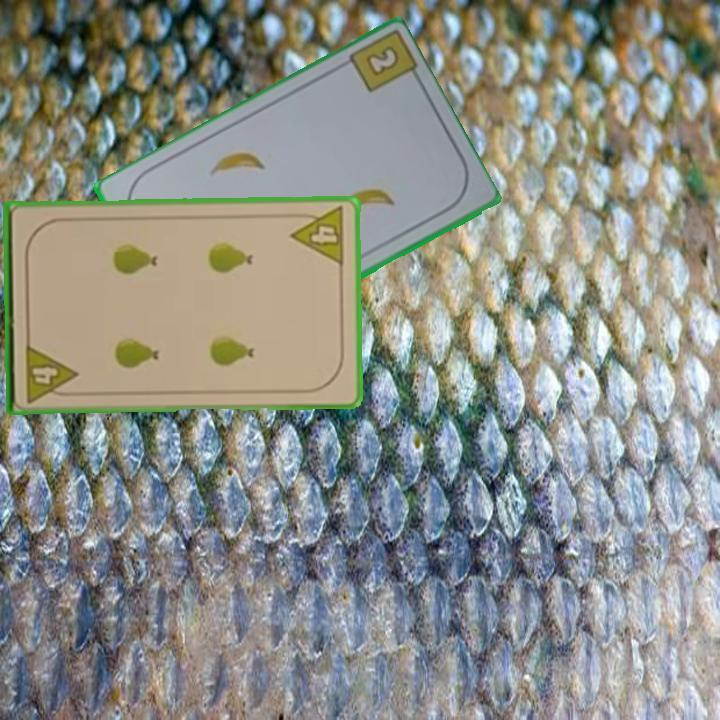2b: (362, 42, 402, 80)
4p: (288, 203, 348, 268), (22, 340, 79, 405)
